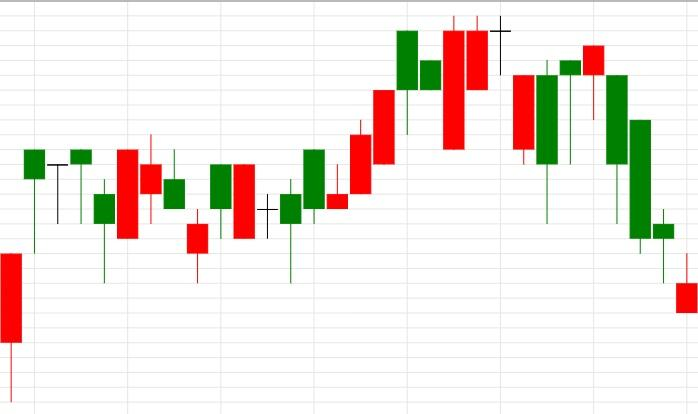hammer_rise: (209, 163, 302, 284)
hanging_man_fall: (0, 149, 92, 401), (512, 60, 582, 224)
